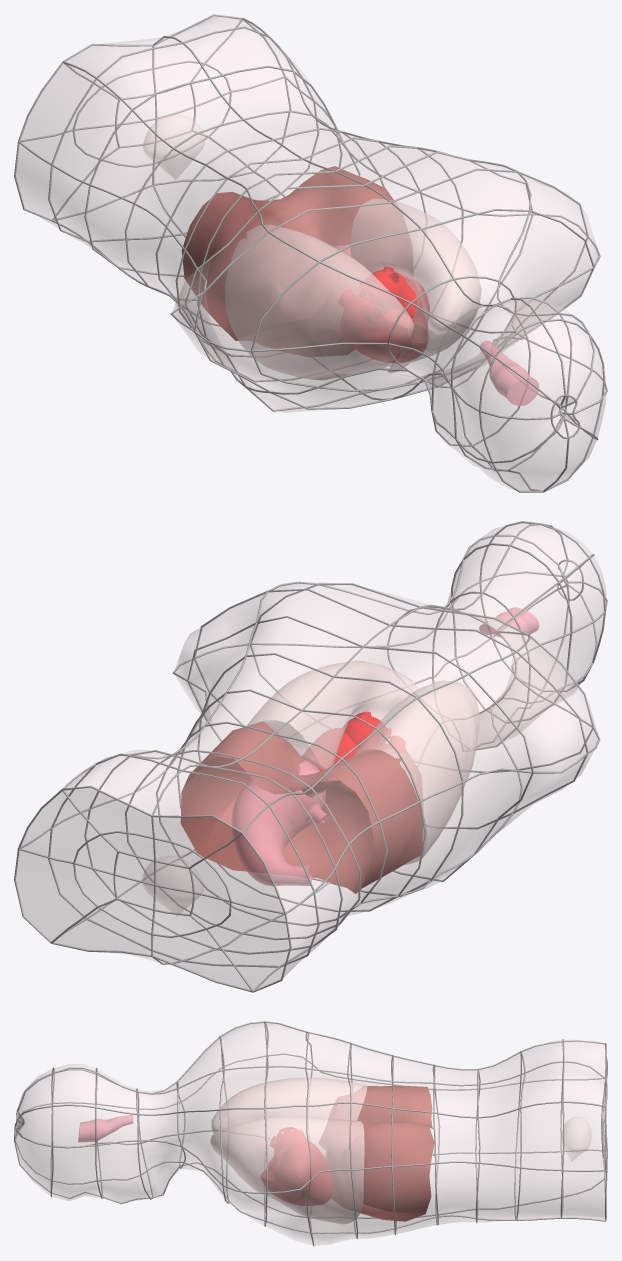
3 views of the same model, one above another, from view 1: azimuth 30°, elevation 25°; view 2: azimuth 150°, elevation 25°; view 3: azimuth 270°, elevation 25° (orthographic). The views are drawn at different scales.
Parts seen in each view (by area): view 1: whole-body (×3), whole-lung (×2), diaphragm, whole-heart, whole-brainstem (×2); view 2: whole-body (×3), whole-lung (×2), diaphragm, whole-stomach (×2), whole-heart, whole-brainstem (×2); view 3: whole-body (×3), whole-lung (×2), diaphragm, whole-heart, whole-brainstem (×2).
Part boxes in pixels (bbox=[...]): whole-body (×3): bbox=[14, 14, 607, 492]; whole-lung (×2): bbox=[225, 198, 481, 380]; diaphragm: bbox=[181, 166, 413, 356]; whole-heart: bbox=[339, 266, 429, 363]; whole-brainstem (×2): bbox=[480, 341, 538, 405]; whole-body (×3): bbox=[14, 521, 607, 992]; whole-lung (×2): bbox=[247, 661, 479, 864]; diaphragm: bbox=[180, 721, 422, 893]; whole-stomach (×2): bbox=[232, 760, 328, 885]; whole-heart: bbox=[302, 711, 407, 771]; whole-brainstem (×2): bbox=[479, 607, 538, 637]; whole-body (×3): bbox=[14, 1021, 607, 1246]; whole-lung (×2): bbox=[211, 1077, 367, 1223]; diaphragm: bbox=[319, 1085, 434, 1221]; whole-heart: bbox=[261, 1127, 332, 1205]; whole-brainstem (×2): bbox=[78, 1115, 132, 1141].
Size of the model in its own units: 483 by 267 by 876.
